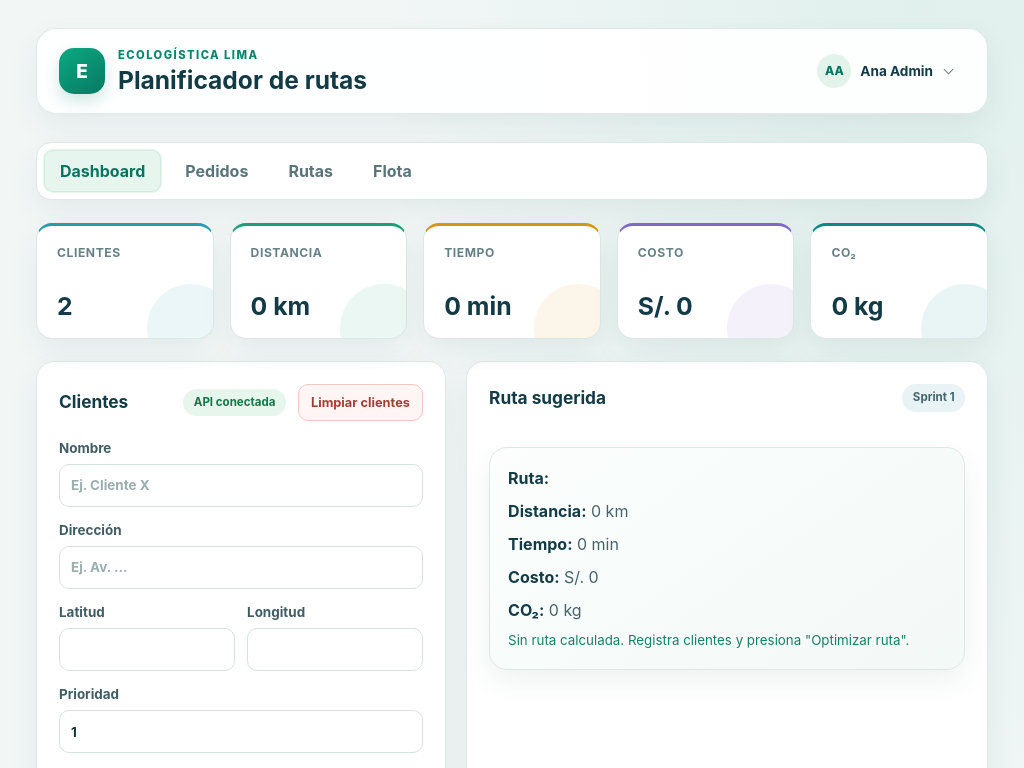
Scenario: Limpiar clientes › Escape también cierra el diálogo
Check: the text "API conectada" is shown, box 183,389 -> 286,416
Click the button "Limpiar clientes" at (360,402), box 298,384 -> 423,421
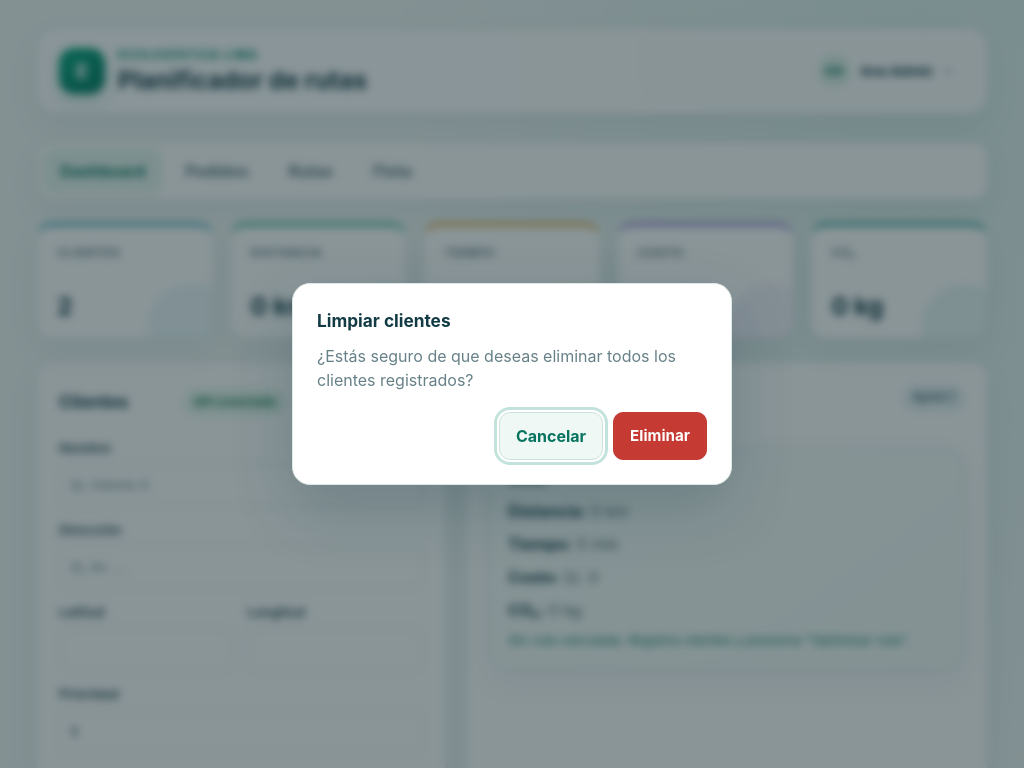
Press Escape
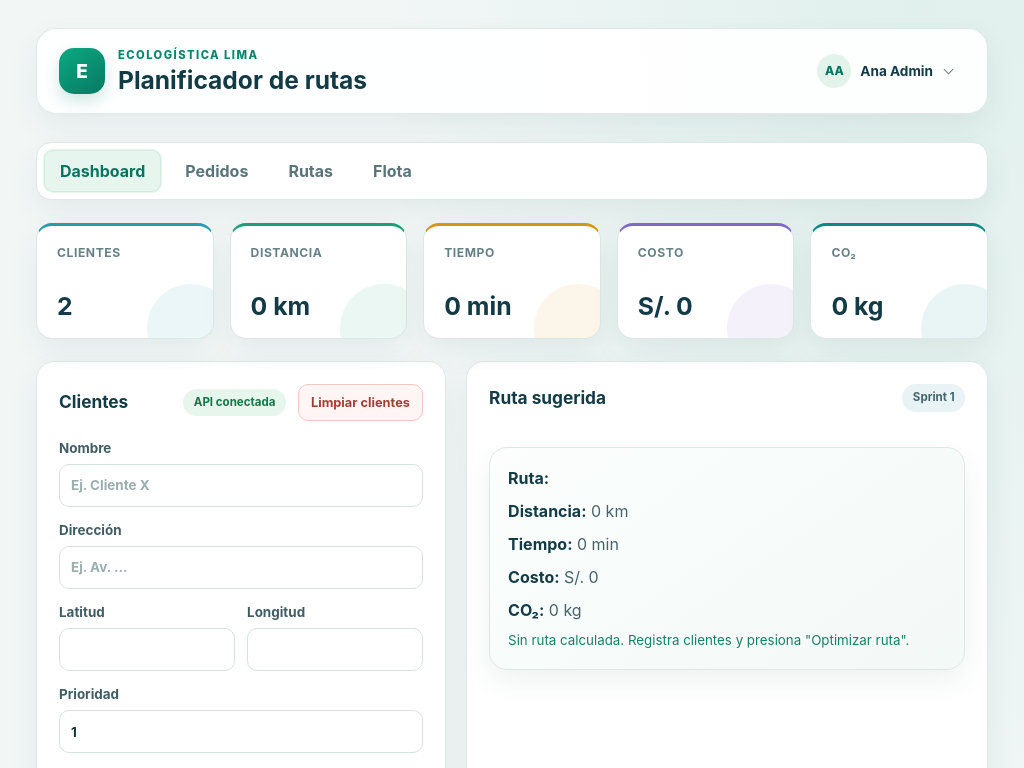
Check: the dialog is gone
